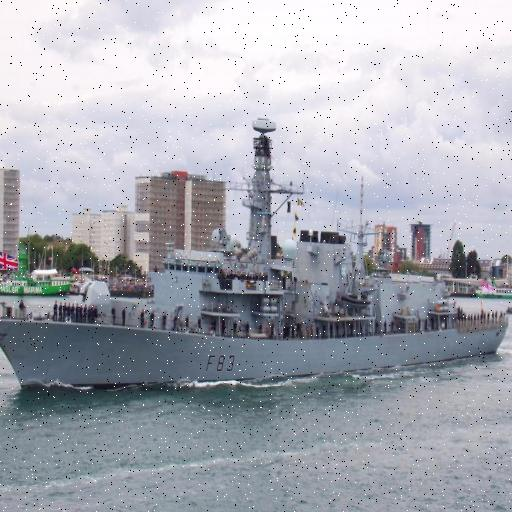Fragata: (1, 112, 512, 411)
